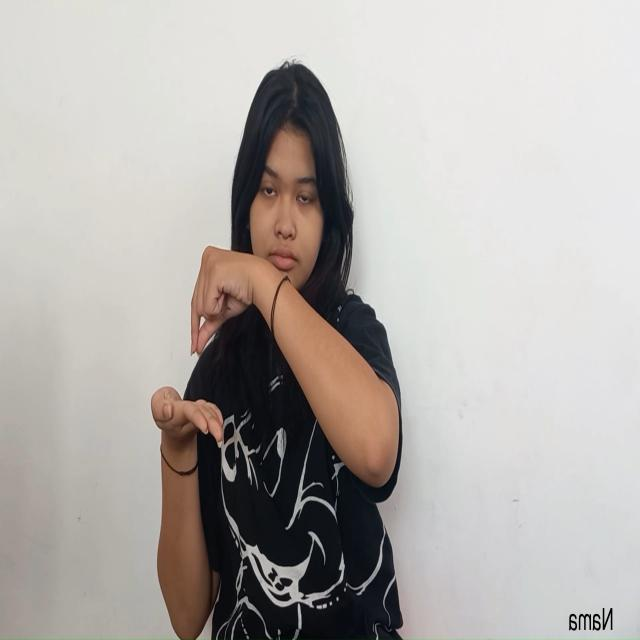Nama -BISINDO-: (151, 246, 276, 452)
